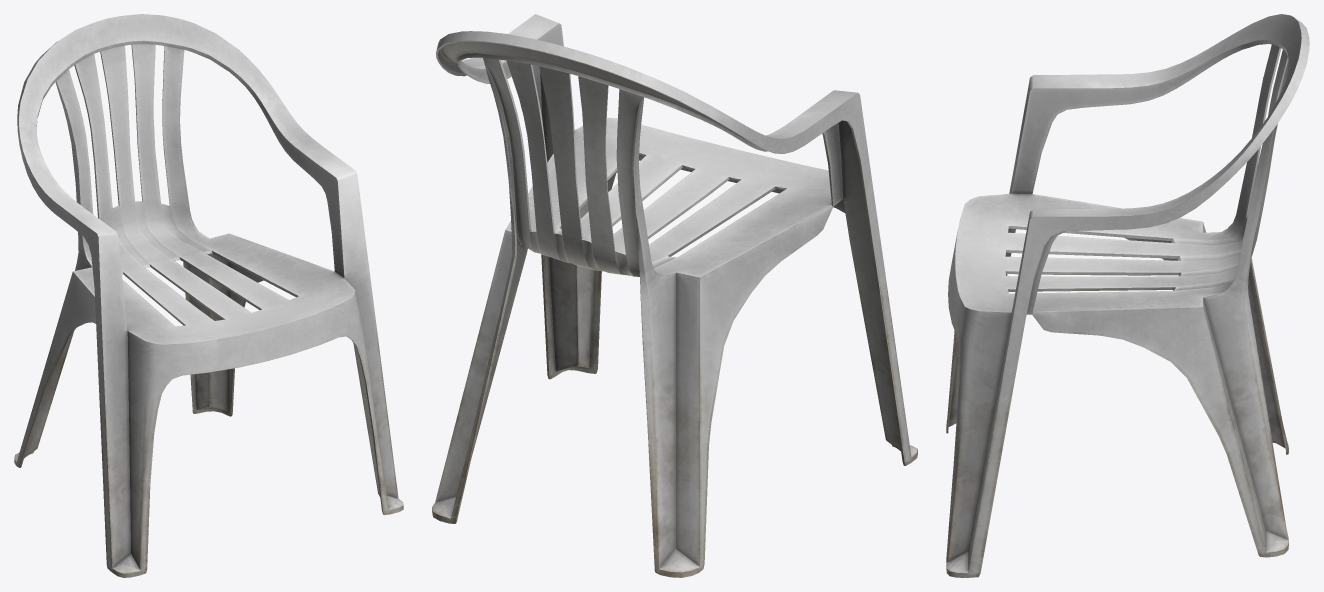
Rendered from plastic_monobloc_chair_01.glb.
The picture shows the model from 3 angles, left to right: view 1: azimuth 30°, elevation 25°; view 2: azimuth 150°, elevation 25°; view 3: azimuth 270°, elevation 25°; orthographic projection. The views are drawn at different scales.
Visible parts, largest first — view 1: plastic_monobloc_chair_01; view 2: plastic_monobloc_chair_01; view 3: plastic_monobloc_chair_01.
Boxes of the visible parts, box(x1,y1,x2,y2) form: plastic_monobloc_chair_01: box(14, 14, 403, 577); plastic_monobloc_chair_01: box(432, 14, 917, 577); plastic_monobloc_chair_01: box(946, 14, 1309, 577).
Bounding box in the file's own units: 0.6419 × 0.8798 × 0.6276.
Materials: 1 (1 with a texture image).
